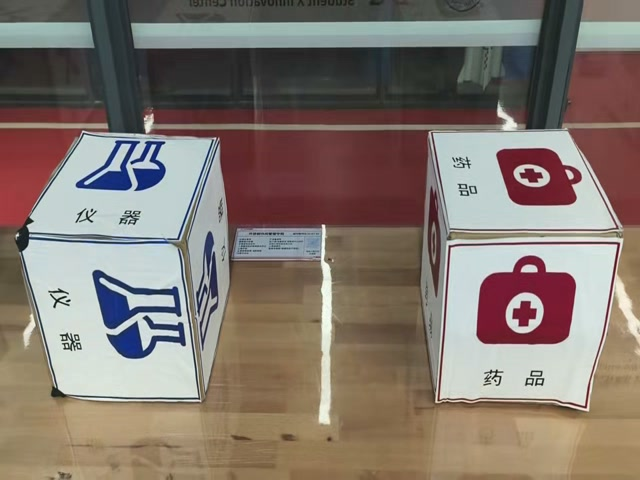Cube_ins: (14, 128, 220, 252)
Cube_medicine: (427, 132, 633, 248)
